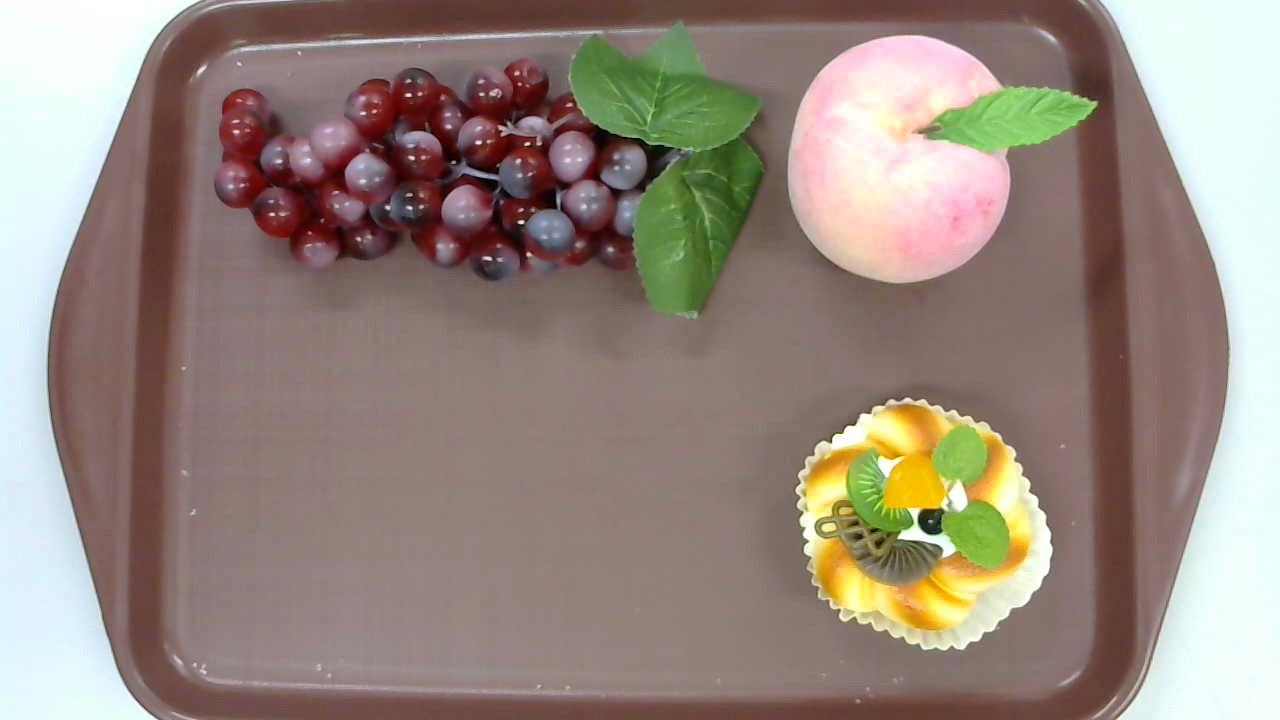fruit tart: (793, 395, 1053, 652)
grape: (212, 20, 766, 317)
peach: (787, 34, 1097, 284)
